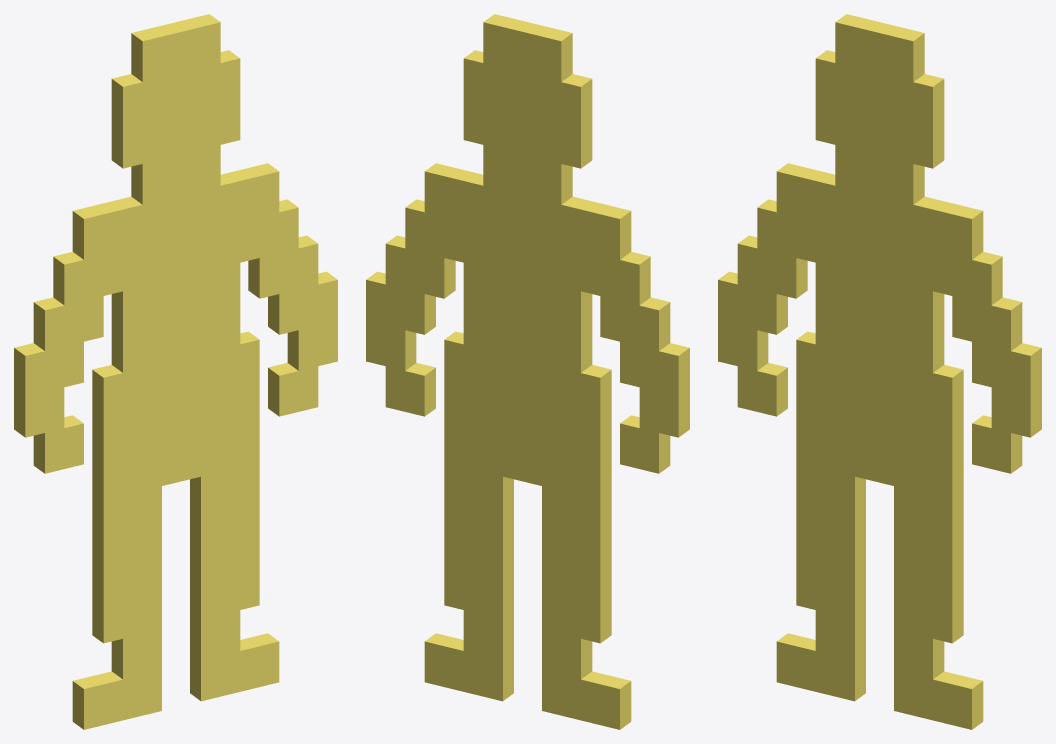
Rendered from Giant-Yellow.vox.obj.
The picture shows the model from 3 angles, left to right: view 1: azimuth 30°, elevation 25°; view 2: azimuth 150°, elevation 25°; view 3: azimuth 330°, elevation 25°; orthographic projection.
Bounding box in the file's own units: 1.6 × 3.3 × 0.1.
1 material, 1 textured.
